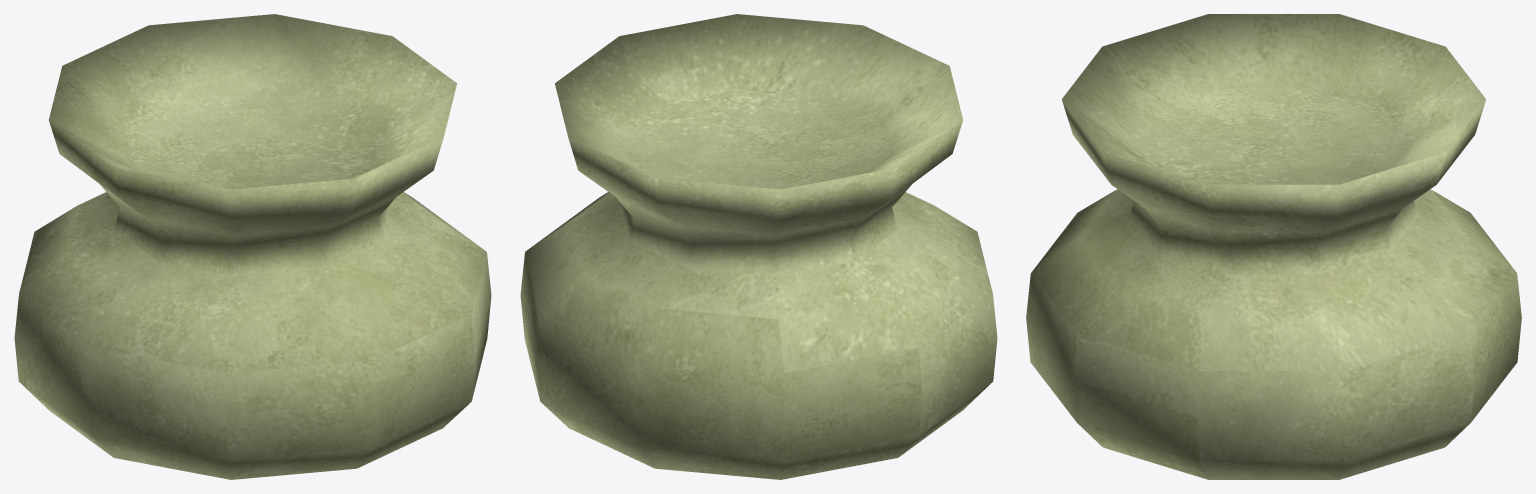
File: Jarron.fbx
3 views of the same model, side by side, from view 1: azimuth 30°, elevation 25°; view 2: azimuth 150°, elevation 25°; view 3: azimuth 270°, elevation 25° (orthographic).
Visible parts, largest first — view 1: Jarron00; view 2: Jarron00; view 3: Jarron00.
Boxes of the visible parts, x1=… form: Jarron00: x1=14, y1=14, x2=491, y2=479; Jarron00: x1=520, y1=14, x2=997, y2=479; Jarron00: x1=1026, y1=14, x2=1521, y2=479.
Size of the model in its own units: 54.3 by 39.95 by 57.1.
1 material, 1 textured.
